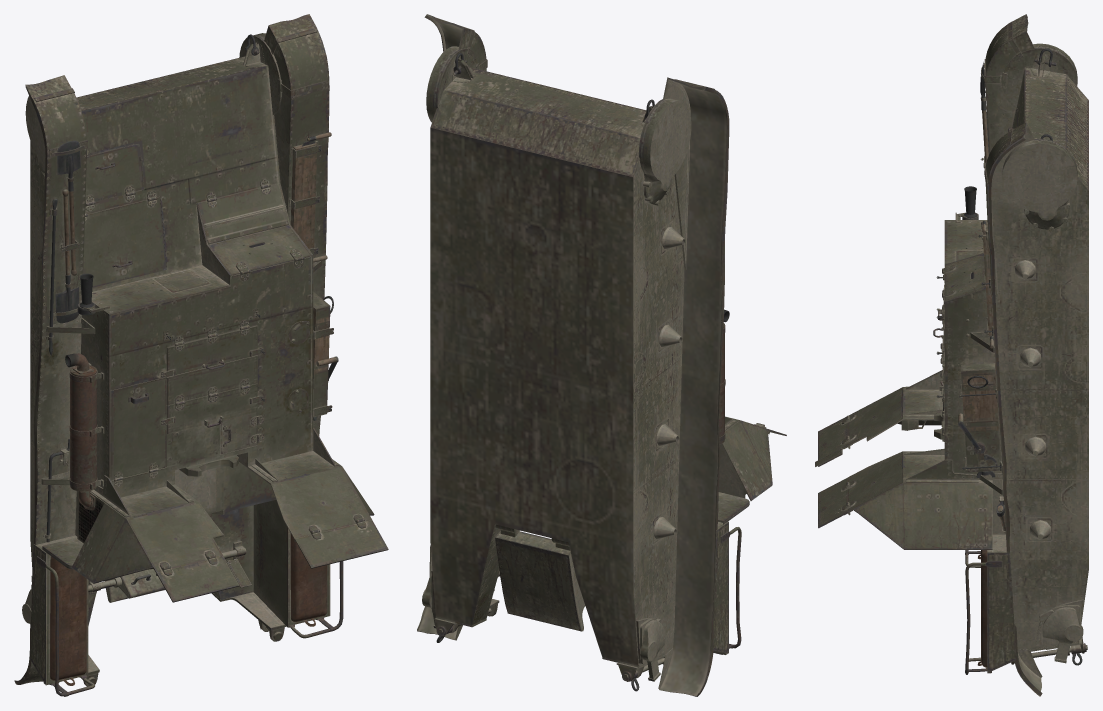
Rendered from Hull.glb.
3 views of the same model, side by side, from view 1: azimuth 30°, elevation 25°; view 2: azimuth 150°, elevation 25°; view 3: azimuth 270°, elevation 25° (orthographic). The views are drawn at different scales.
Parts seen in each view (by area): view 1: set_0_group_0; view 2: set_0_group_0; view 3: set_0_group_0.
Part boxes in pixels (<box>): set_0_group_0: <box>14,14,388,696</box>; set_0_group_0: <box>417,14,786,696</box>; set_0_group_0: <box>815,14,1088,696</box>.
Size of the model in its own units: 2.39 by 4.87 by 2.16.
1 material, 1 textured.
